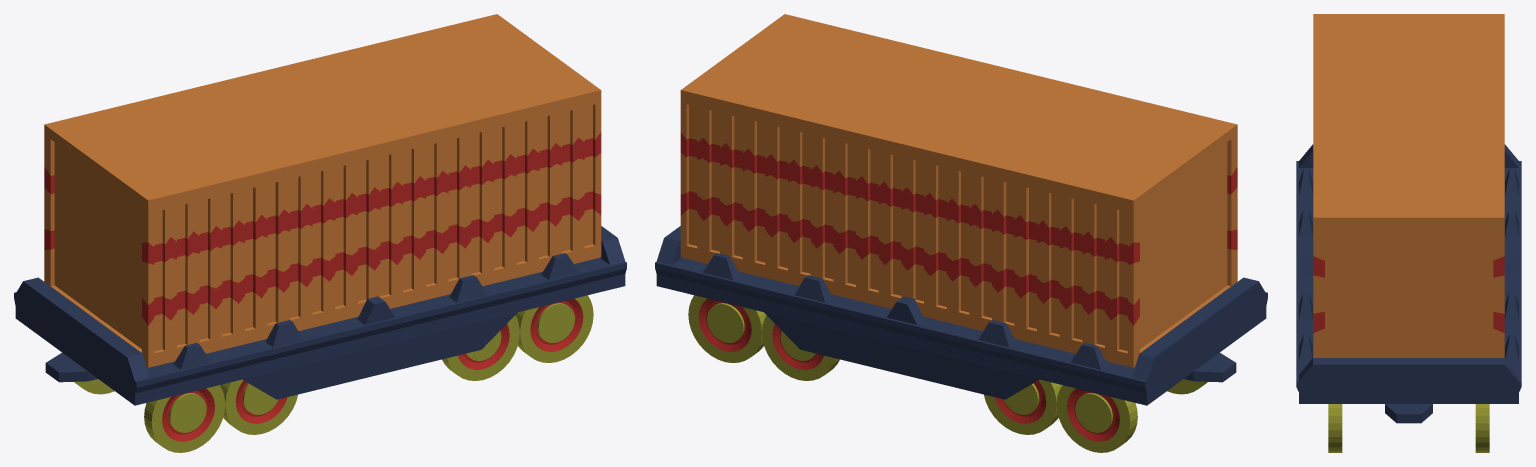
Rendered from CargoWheels06.fbx.
The picture shows the model from 3 angles, left to right: view 1: azimuth 30°, elevation 25°; view 2: azimuth 150°, elevation 25°; view 3: azimuth 270°, elevation 25°; orthographic projection. The views are drawn at different scales.
Visible parts, largest first — view 1: CargoWheels06; view 2: CargoWheels06; view 3: CargoWheels06.
Boxes of the visible parts, x1=… form: CargoWheels06: x1=14, y1=14, x2=626, y2=452; CargoWheels06: x1=655, y1=14, x2=1267, y2=452; CargoWheels06: x1=1296, y1=14, x2=1521, y2=452.
Size of the model in its own units: 856 by 411 by 339.
